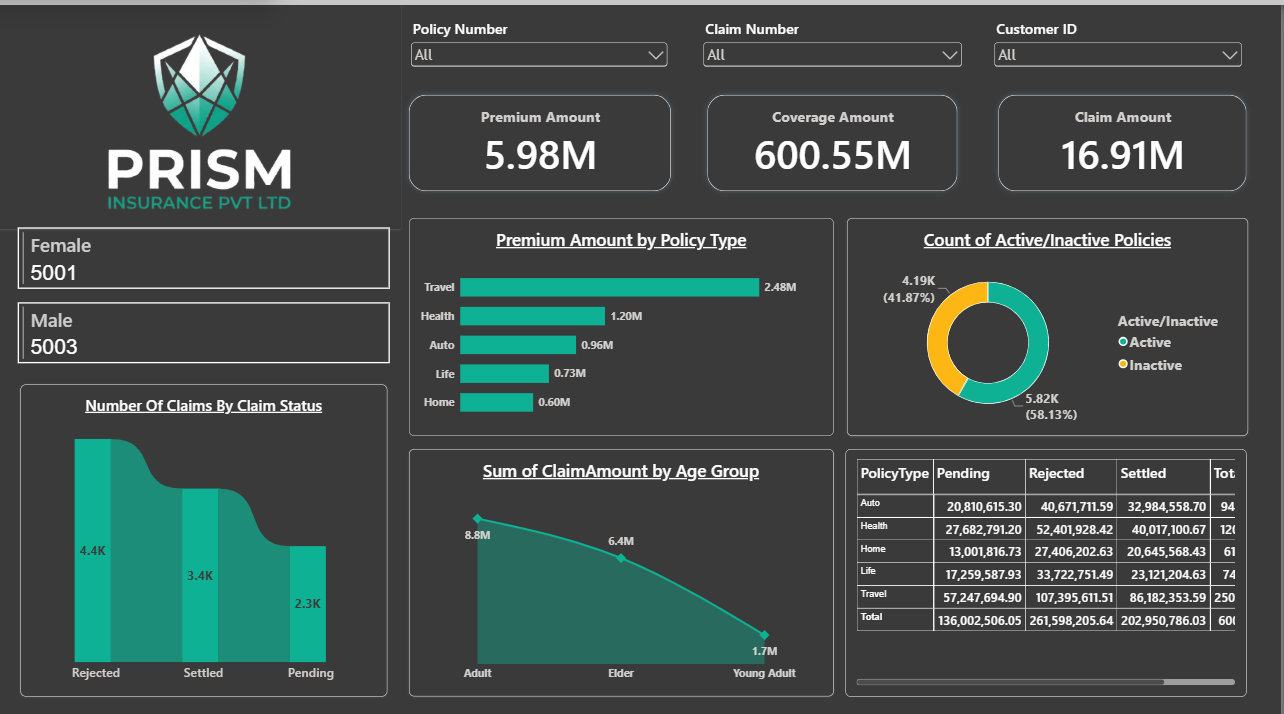

What the dashboard file says about the page in this screenshot:
{"tool":"powerbi","page":{"name":"Prism Insurance","canvas":[1920,1080],"ordinal":0},"visuals":[{"type":"slicer","fields":{"Values":["InsuranceData.PolicyNumber"]},"box":[611.9,21.1,393.9,103.2],"z":0},{"type":"slicer","fields":{"Values":["InsuranceData.ClaimNumber"]},"box":[1050.3,21.1,396.2,103.2],"z":1000},{"type":"slicer","fields":{"Values":["InsuranceData.CustomerID"]},"box":[1486.4,21.1,379.8,103.2],"z":2000},{"type":"cardVisual","fields":{"Data":["Sum(InsuranceData.PremiumAmount)"]},"box":[602.5,124.3,415,166.5],"z":3000},{"type":"cardVisual","fields":{"Data":["Sum(InsuranceData.CoverageAmount)"]},"box":[1050.3,124.3,396.2,166.5],"z":4000},{"type":"cardVisual","fields":{"Data":["Sum(InsuranceData.ClaimAmount)"]},"box":[1486.4,124.3,393.9,166.5],"z":5000},{"type":"multiRowCard","fields":{"Values":["InsuranceData.Gender","CountNonNull(InsuranceData.Gender)"]},"box":[14.1,318.8,588.5,300.1],"z":6000},{"type":"ribbonChart","title":"Number Of Claims By Claim Status","fields":{"Category":["InsuranceData.ClaimStatus"],"Y":["CountNonNull(InsuranceData.ClaimStatus)"]},"box":[32.8,567.4,548.6,466.6],"z":7000},{"type":"barChart","title":"Premium Amount by Policy Type","fields":{"Category":["InsuranceData.PolicyType"],"Y":["Sum(InsuranceData.PremiumAmount)"]},"box":[614.3,318.8,635.4,325.9],"z":8000},{"type":"lineChart","fields":{"Category":["InsuranceData.Age Group"],"Y":["Sum(InsuranceData.ClaimAmount)"]},"box":[614.3,663.5,635,370],"z":9000},{"type":"donutChart","title":"Count of Active/Inactive Policies","fields":{"Category":["InsuranceData.Active/Inactive"],"Y":["CountNonNull(InsuranceData.Active/Inactive)"]},"box":[1270.7,318.8,600.2,325.9],"z":10000},{"type":"pivotTable","fields":{"Columns":["InsuranceData.ClaimStatus"],"Rows":["InsuranceData.PolicyType"],"Values":["Sum(InsuranceData.CoverageAmount)"]},"box":[1268.4,663.5,600.2,370.4],"z":11000},{"type":"image","box":[0,0,602.5,335.3],"z":12000}]}

Visuals, with their boxes in screenshot pixels (x1, y1, x2, y2), scaled from the page's 1920x1080 canvas onto the 1284x714 screenshot:
slicer - InsuranceData.PolicyNumber: 409:14:673:82
slicer - InsuranceData.ClaimNumber: 702:14:967:82
slicer - InsuranceData.CustomerID: 994:14:1248:82
cardVisual - Sum(InsuranceData.PremiumAmount): 403:82:680:192
cardVisual - Sum(InsuranceData.CoverageAmount): 702:82:967:192
cardVisual - Sum(InsuranceData.ClaimAmount): 994:82:1257:192
multiRowCard - InsuranceData.Gender x CountNonNull(InsuranceData.Gender): 9:211:403:409
"Number Of Claims By Claim Status" ribbonChart: 22:375:389:684
"Premium Amount by Policy Type" barChart: 411:211:836:426
lineChart - InsuranceData.Age Group x Sum(InsuranceData.ClaimAmount): 411:439:835:683
"Count of Active/Inactive Policies" donutChart: 850:211:1251:426
pivotTable - InsuranceData.ClaimStatus x InsuranceData.PolicyType: 848:439:1250:684
image: 0:0:403:222
